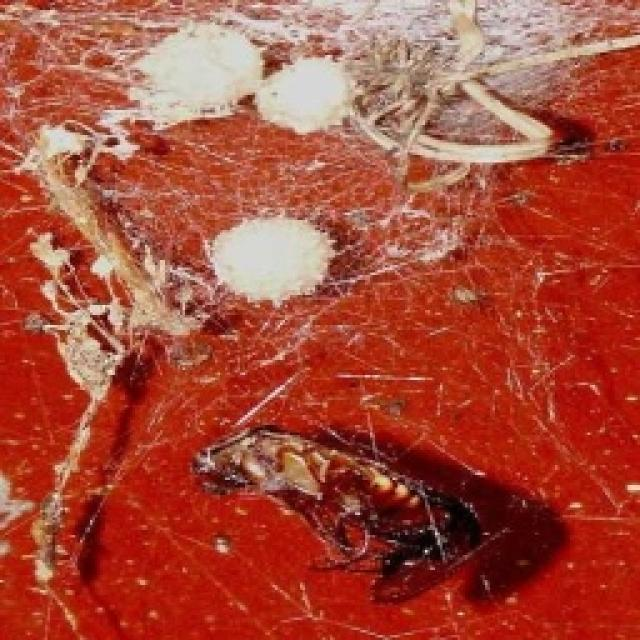cockroach: (189, 418, 488, 583)
